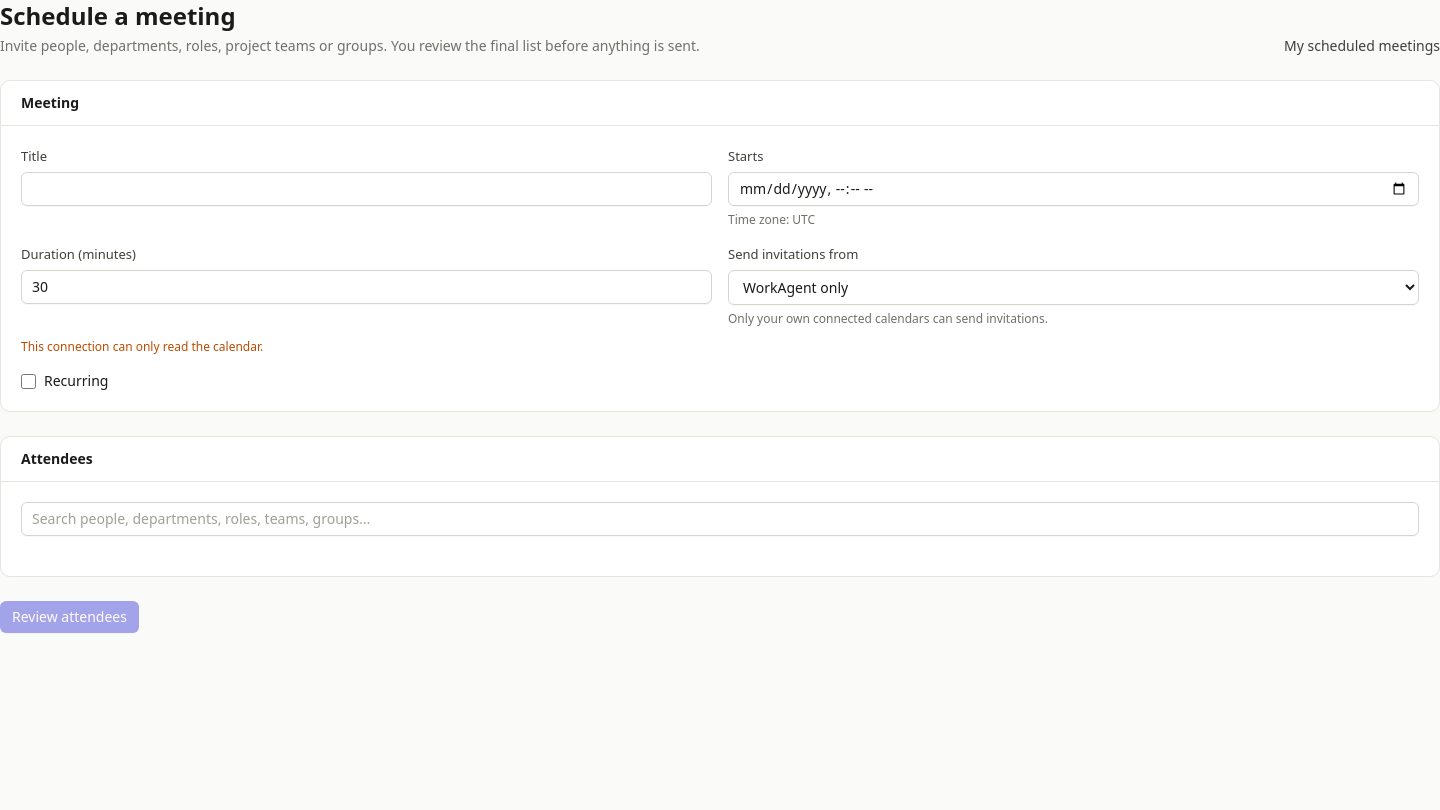
group invitations › needs the large-invitation checkbox, and asks to review again when the list changed
Type "Design review" into the field labelled "Title". click: (366, 189)
box: [21,172,712,206]
Type "2026-11-20T10:00" into the field labelled "Starts". click: (1074, 189)
box: [728,172,1419,206]
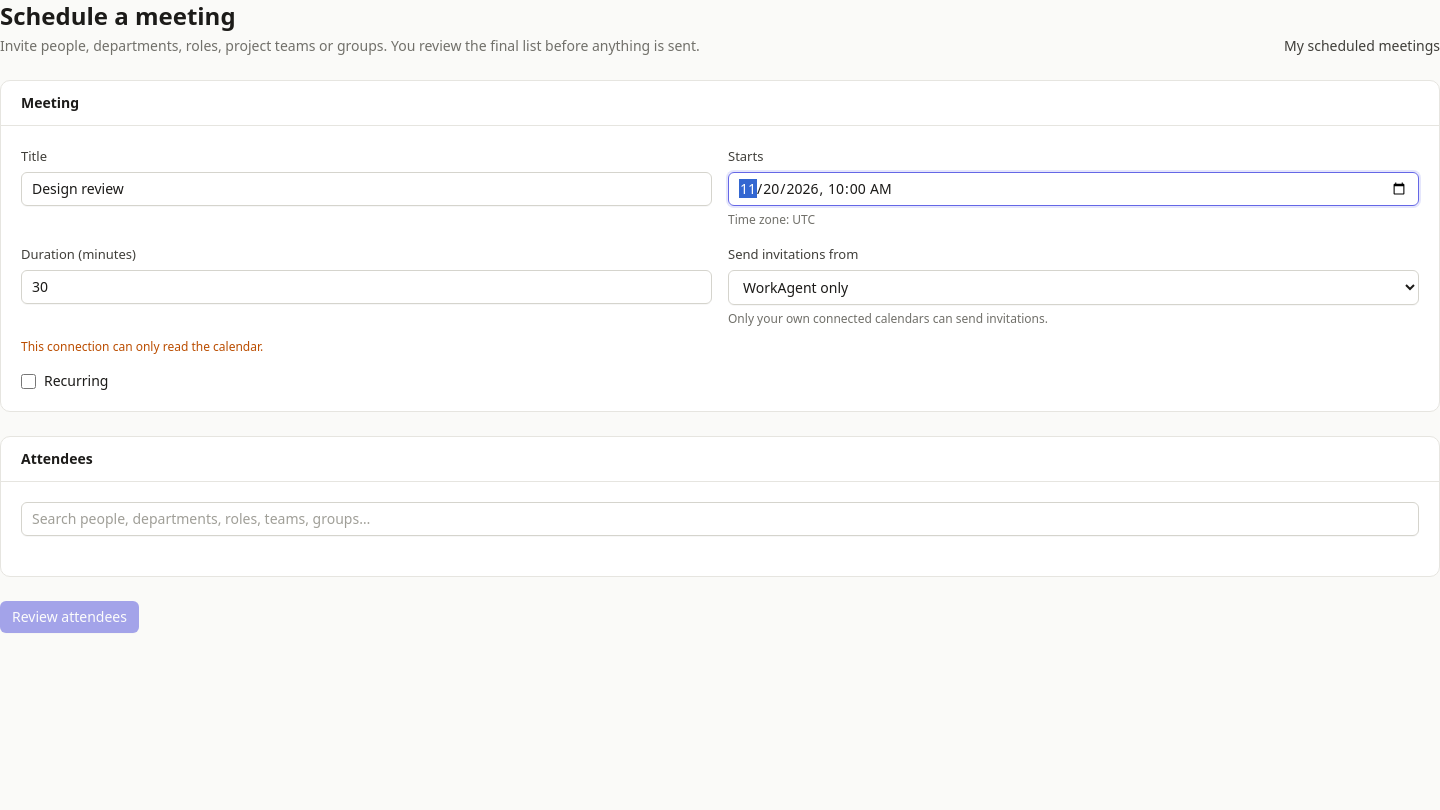
Type "pay" into the dropdown labelled "Search people, departments, roles, teams, groups…". click: (720, 519)
box: [21,502,1419,536]
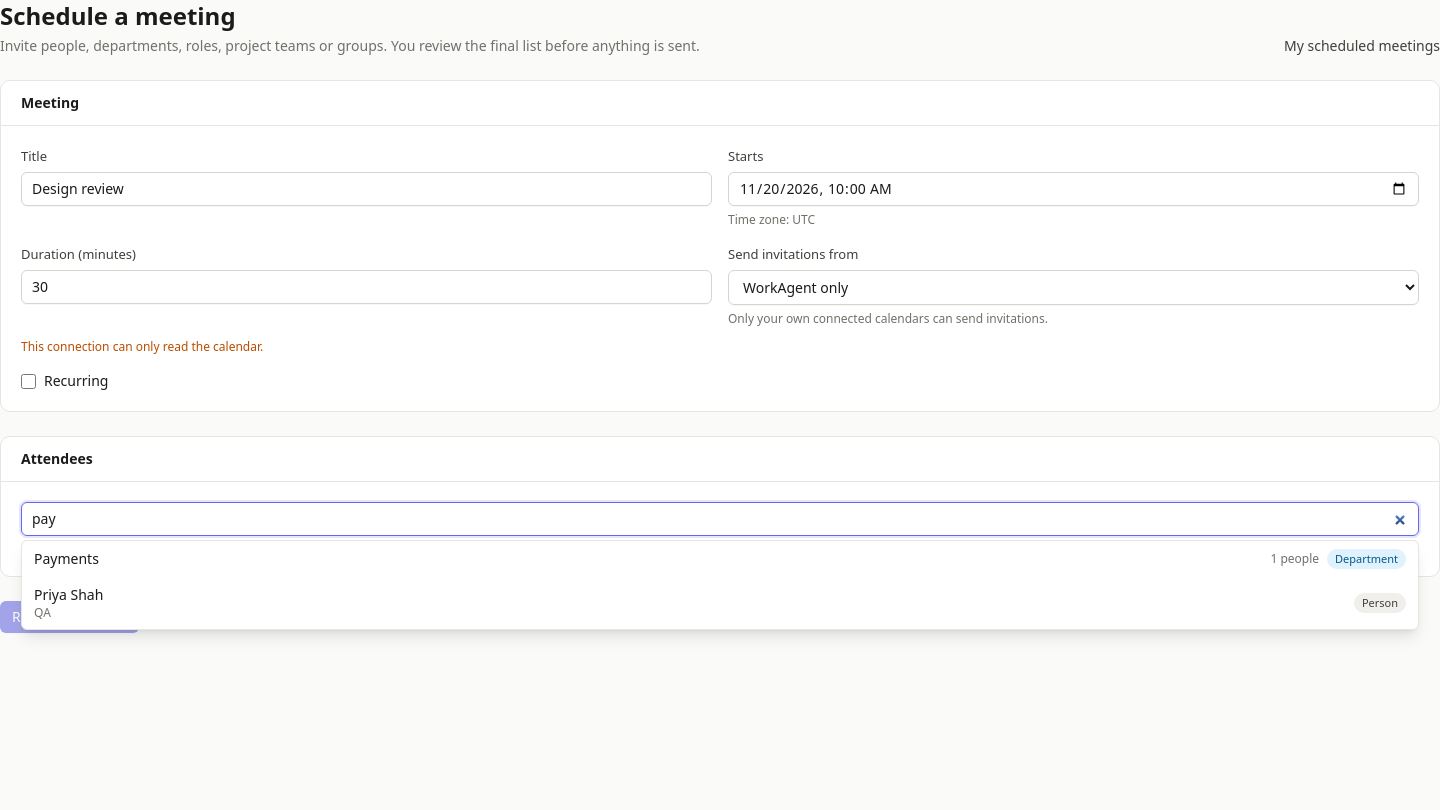
Now the text "Department" is shown, box [1327,549,1406,569]
Click the text "Payments". click: (66, 558)
box: [34,549,99,568]
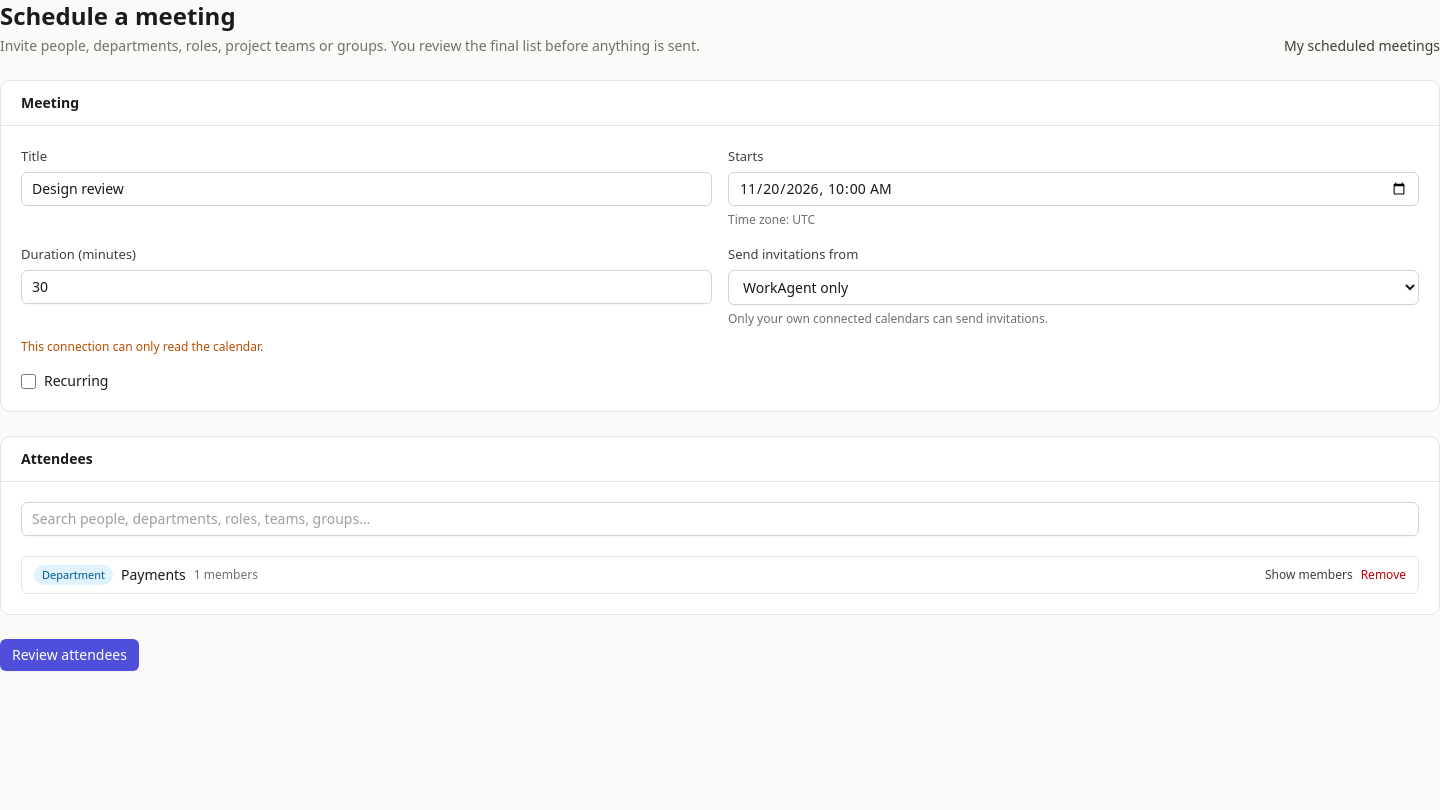
Click the button "Review attendees". click: (69, 655)
box: [0,639,139,671]
(page scrolled)
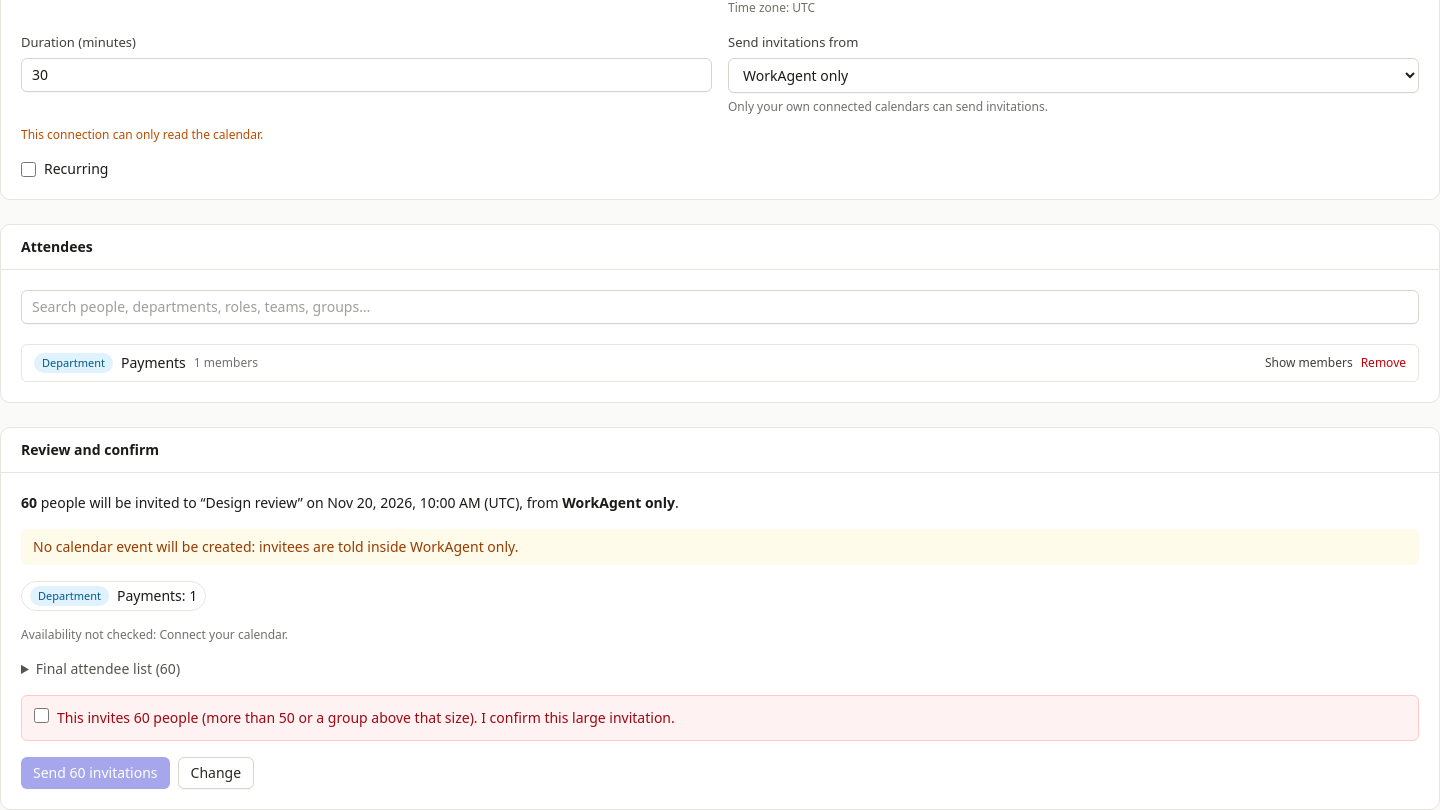
Now the button "Send 60 invitations" is disabled, box [21,757,170,789]
Click the checkbox named "I confirm this large invitation". click: (42, 716)
box: [34,708,49,723]
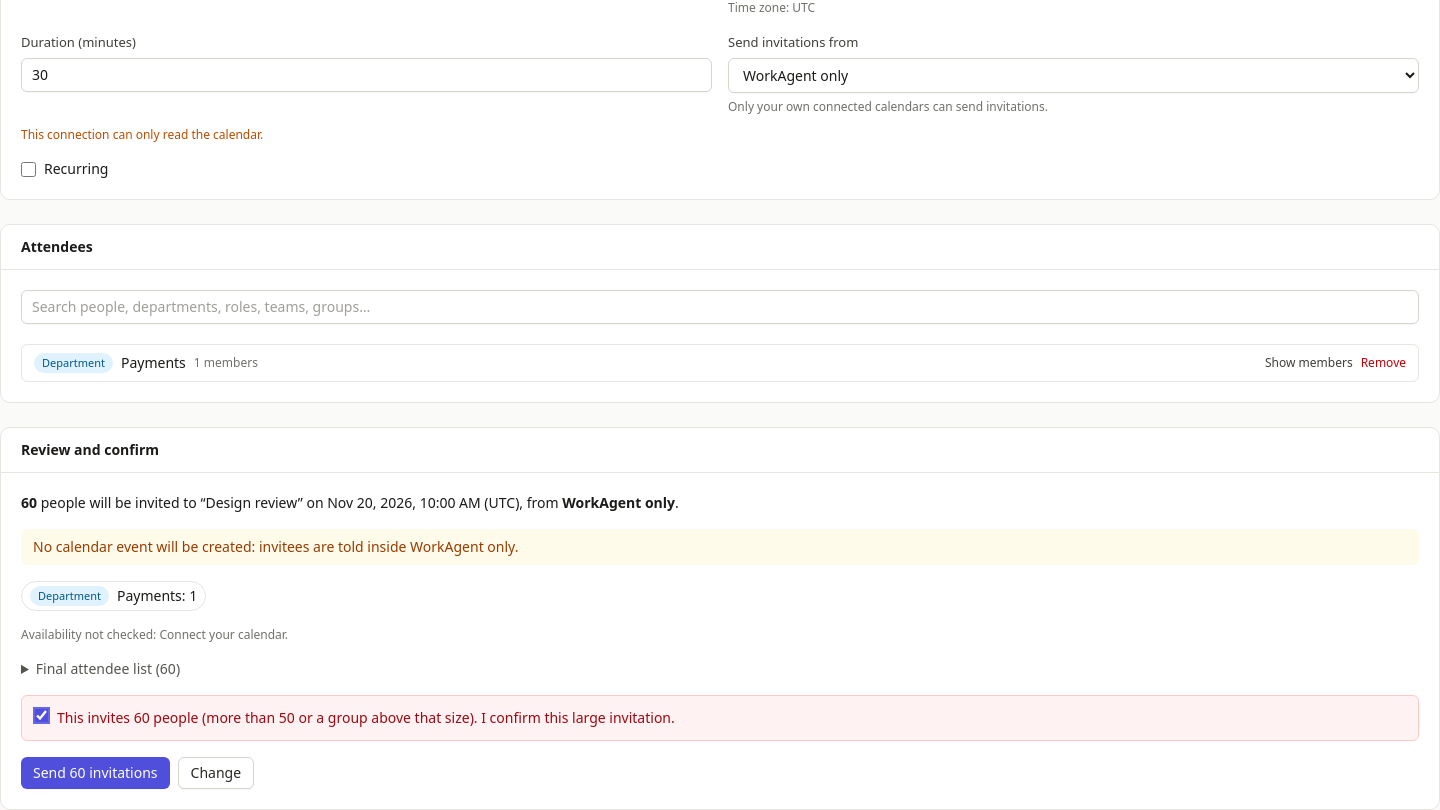
Now the button "Send 60 invitations" is enabled
Click the button "Send 60 invitations". click: (95, 773)
box: [21,757,170,789]
(page scrolled)
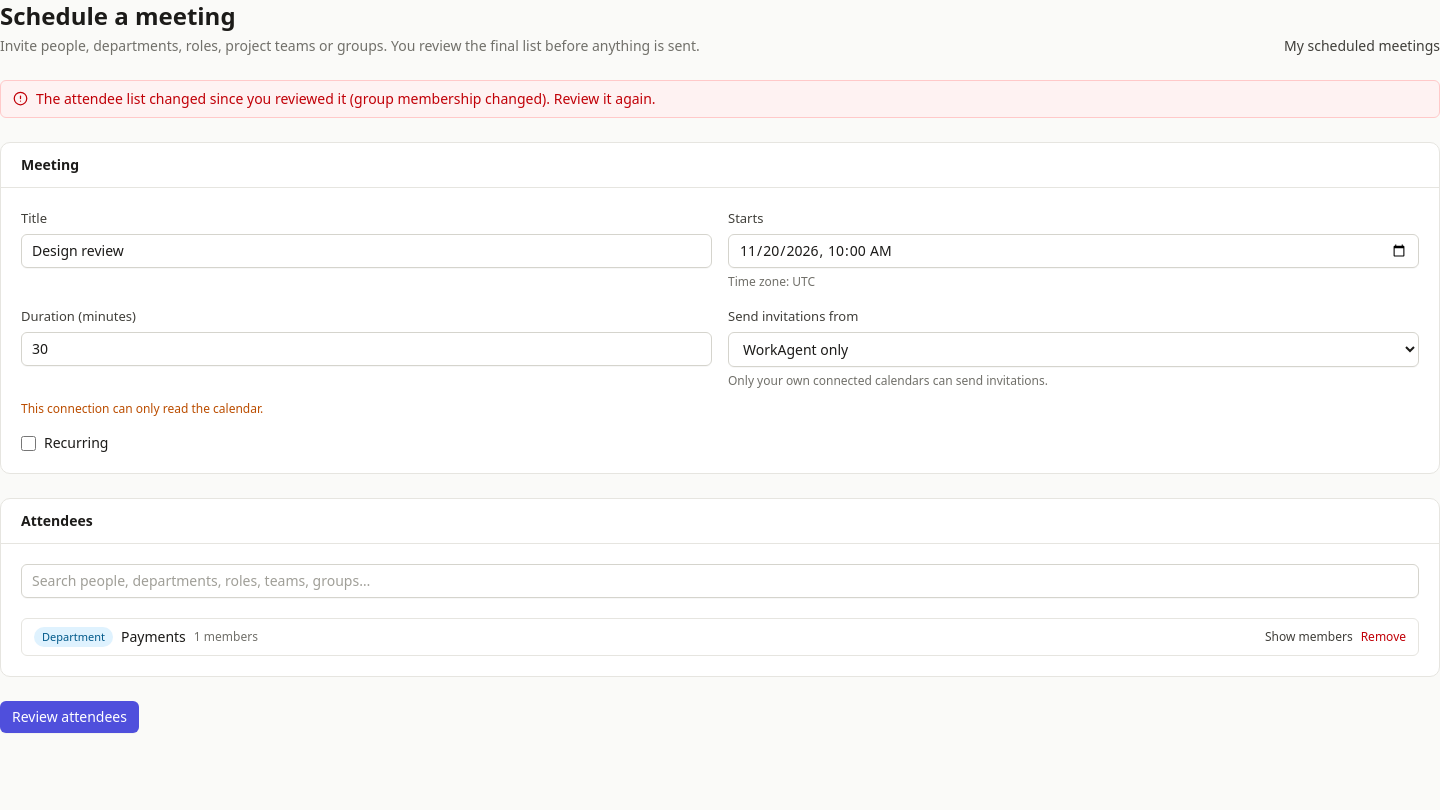
Now the text "attendee list changed" is shown, box [36,89,656,108]
